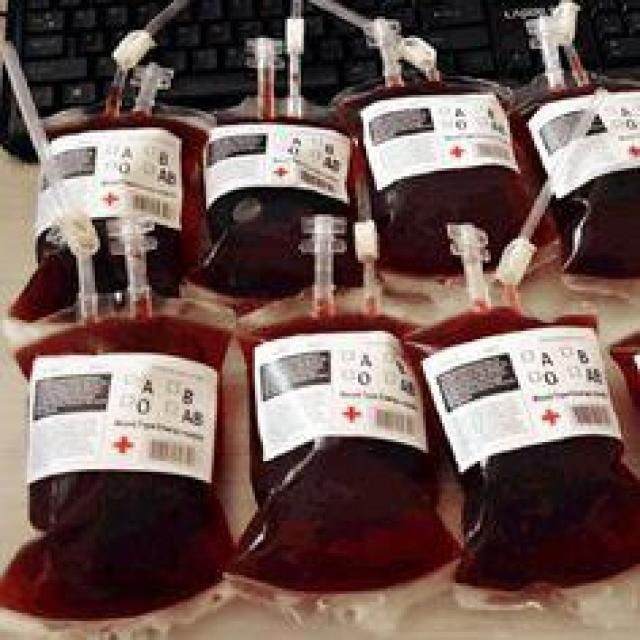flood: (458, 458, 640, 583), (26, 484, 212, 602), (281, 470, 433, 575), (221, 198, 301, 271)
